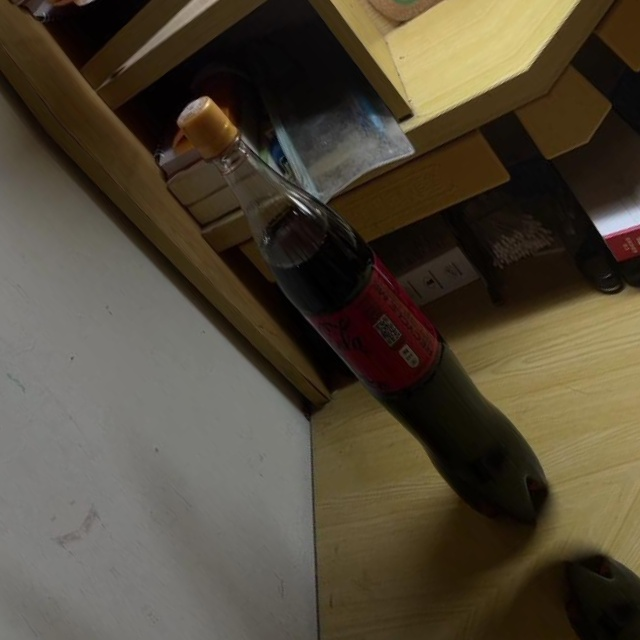Coca-Cola: (150, 75, 573, 553)
